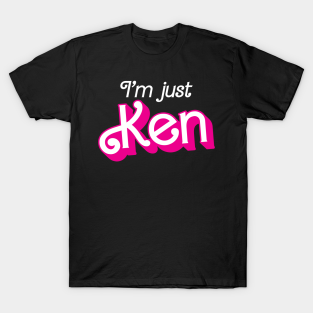design: (96, 77, 218, 163)
